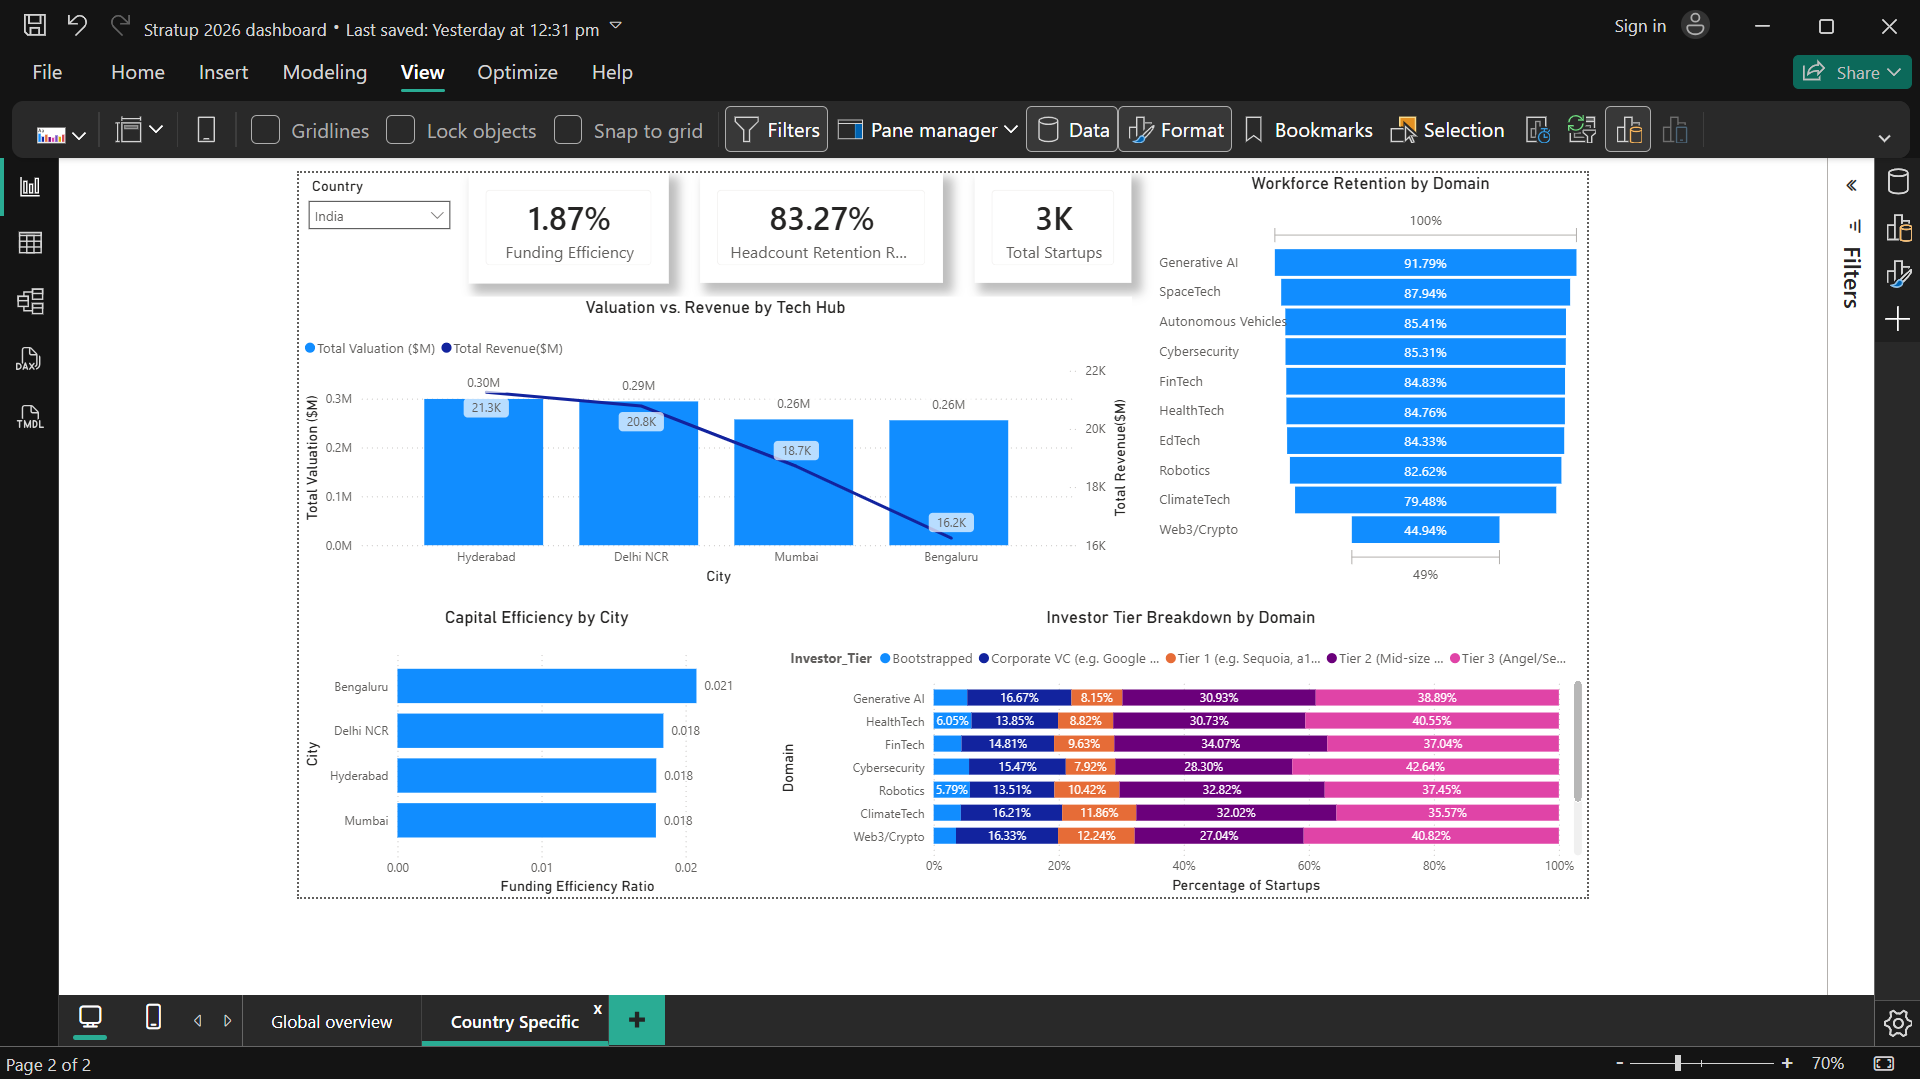

Layout of this report page (visuals, bound fields, positions):
{"tool":"powerbi","page":{"name":"Country Specific","canvas":[1280,720],"ordinal":1},"visuals":[{"type":"cardVisual","fields":{"Data":["startup_ecosystem_2026 vw_fact_financials.Funding Efficiency Ratio"]},"box":[169.3,0,199,109.7],"z":0},{"type":"cardVisual","fields":{"Data":["startup_ecosystem_2026 vw_fact_headcount.Headcount Retention Rate"]},"box":[398,0,241.6,109],"z":1000},{"type":"slicer","fields":{"Values":["startup_ecosystem_2026 vw_dim_location.Country"]},"box":[0,0,160,81.8],"z":1001},{"type":"cardVisual","fields":{"Data":["Count(startup_ecosystem_2026 vw_dim_company.Company_ID)"]},"box":[671.5,0,156.2,109],"z":1002},{"type":"clusteredBarChart","title":"Capital Efficiency by City","fields":{"Category":["startup_ecosystem_2026 vw_dim_location.City"],"Y":["startup_ecosystem_2026 vw_fact_financials.Funding Efficiency Ratio"]},"box":[0,431.5,539.4,290.2],"z":1003},{"type":"funnel","title":"Workforce Retention by Domain","fields":{"Category":["startup_ecosystem_2026 vw_dim_company.Domain"],"Y":["startup_ecosystem_2026 vw_fact_headcount.Headcount Retention Rate"]},"box":[850,0,429.7,412.9],"z":1004},{"type":"hundredPercentStackedBarChart","title":"Investor Tier Breakdown by Domain","fields":{"Category":["startup_ecosystem_2026 vw_dim_company.Domain"],"Series":["startup_ecosystem_2026 vw_fact_financials.Investor_Tier"],"Y":["CountNonNull(startup_ecosystem_2026 vw_dim_company.Company_ID)"]},"box":[567.3,431.5,712.4,288.3],"z":1005},{"type":"lineClusteredColumnComboChart","title":"Valuation vs. Revenue by Tech Hub","fields":{"Category":["startup_ecosystem_2026 vw_dim_location.City"],"Y":["Sum(startup_ecosystem_2026 vw_fact_financials.Valuation_USD_Millions)"],"Y2":["Sum(startup_ecosystem_2026 vw_fact_financials.Revenue_ARR_Millions)"]},"box":[0,122.8,827.7,290.2],"z":1006}]}

Visuals, with their boxes on the page's 1280x720 design canvas (x1, y1, x2, y2). These are canvas units, not pixel positions in the 1920x1079 screenshot, which may show the page scaled, cropped or inside an application window:
cardVisual - startup_ecosystem_2026 vw_fact_financials.Funding Efficiency Ratio: 169 0 368 110
cardVisual - startup_ecosystem_2026 vw_fact_headcount.Headcount Retention Rate: 398 0 640 109
slicer - startup_ecosystem_2026 vw_dim_location.Country: 0 0 160 82
cardVisual - Count(startup_ecosystem_2026 vw_dim_company.Company_ID): 672 0 828 109
"Capital Efficiency by City" clusteredBarChart: 0 432 539 722
"Workforce Retention by Domain" funnel: 850 0 1280 413
"Investor Tier Breakdown by Domain" hundredPercentStackedBarChart: 567 432 1280 720
"Valuation vs. Revenue by Tech Hub" lineClusteredColumnComboChart: 0 123 828 413
